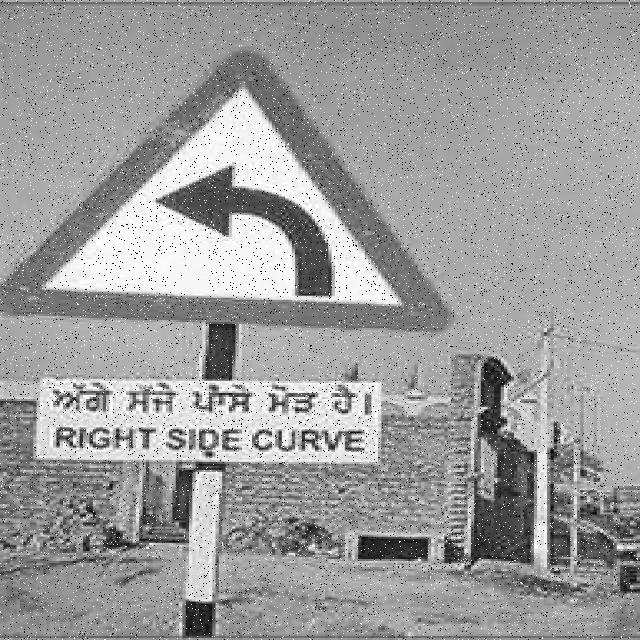left_hand_curve: (3, 52, 454, 337)
